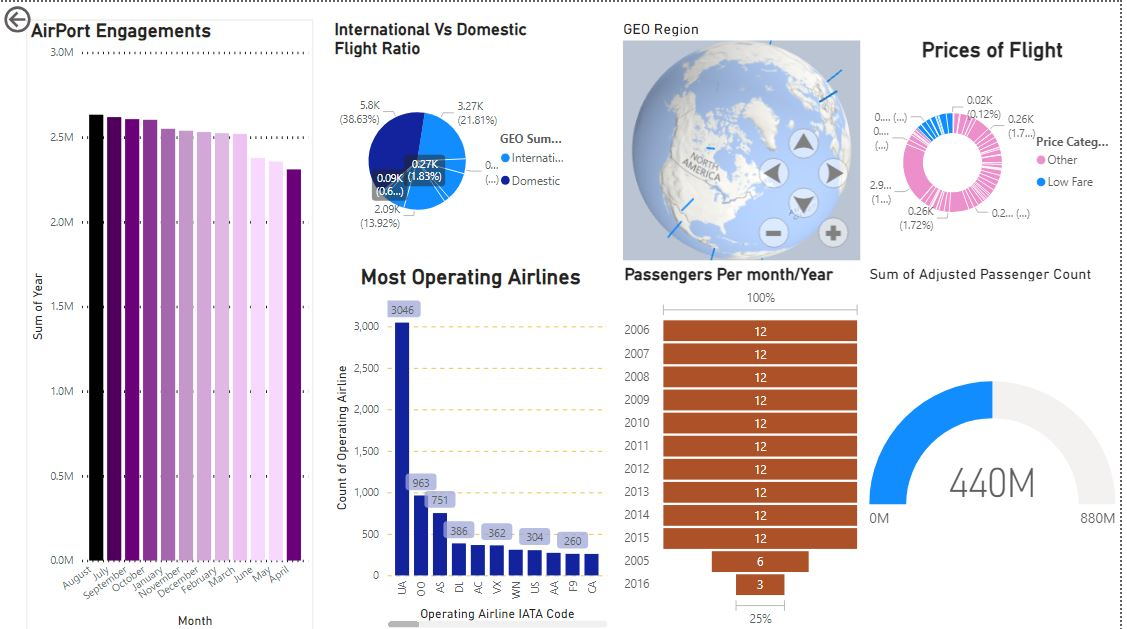

What the dashboard file says about the page in this screenshot:
{"tool":"powerbi","page":{"name":"Page 1","canvas":[1280,720],"ordinal":0},"visuals":[{"type":"columnChart","title":"AirPort Engagements  ","fields":{"Category":["air_traffic_data (2).Month"],"Y":["Sum(air_traffic_data (2).Year)"]},"box":[30,20,327.1,700],"z":0},{"type":"actionButton","box":[0,0,100,40],"z":1000},{"type":"pieChart","title":"International Vs Domestic Flight Ratio","fields":{"Category":["air_traffic_data (2).GEO Summary"],"Y":["CountNonNull(air_traffic_data (2).GEO Region)"],"Series":["air_traffic_data (2).GEO Region"]},"box":[377.1,20,281.4,280],"z":2000},{"type":"clusteredColumnChart","title":"Most Operating Airlines ","fields":{"Y":["CountNonNull(air_traffic_data (2).Operating Airline)"],"Category":["air_traffic_data (2).Operating Airline IATA Code"]},"box":[377.1,300,321.4,420],"z":2001},{"type":"GlobeMap1447669447625","fields":{"Location":["air_traffic_data (2).GEO Region"]},"box":[707.5,20,281,280],"z":2002},{"type":"donutChart","title":"Prices of Flight","fields":{"Category":["air_traffic_data (2).Price Category Code"],"Y":["CountNonNull(air_traffic_data (2).Price Category Code)"],"Series":["air_traffic_data (2).Operating Airline IATA Code"]},"box":[988.6,40,291.4,260],"z":2003},{"type":"funnel","title":"Passengers Per month/Year","fields":{"Category":["air_traffic_data (2).Year"],"Y":["Divide(CountNonNull(air_traffic_data (2).Month), ScopedEval(CountNonNull(air_traffic_data (2).Month), []))"]},"box":[708,300,281,420],"z":2004},{"type":"gauge","fields":{"Y":["Sum(air_traffic_data (2).Adjusted Passenger Count)"]},"box":[989,300,291,420],"z":2005}]}

Visuals, with their boxes in screenshot pixels (x1, y1, x2, y2), scaled from the page's 1280x720 canvas onto the 1127x629 screenshot:
"AirPort Engagements  " columnChart: <box>26,17,314,628</box>
actionButton: <box>0,0,88,35</box>
"International Vs Domestic Flight Ratio" pieChart: <box>332,17,580,262</box>
"Most Operating Airlines " clusteredColumnChart: <box>332,262,615,628</box>
GlobeMap1447669447625 - air_traffic_data (2).GEO Region: <box>623,17,870,262</box>
"Prices of Flight" donutChart: <box>870,35,1126,262</box>
"Passengers Per month/Year" funnel: <box>623,262,871,628</box>
gauge - Sum(air_traffic_data (2).Adjusted Passenger Count): <box>871,262,1126,628</box>
